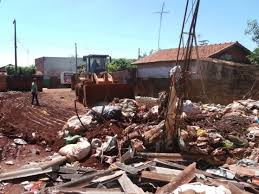rubble: (37, 95, 259, 193)
